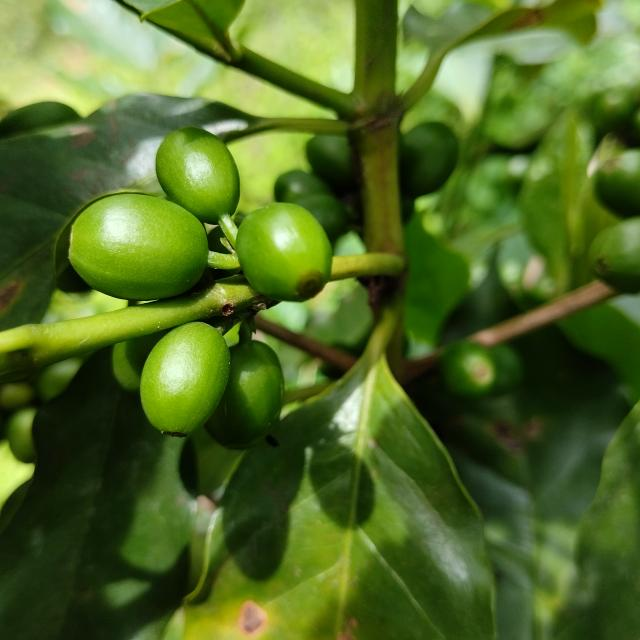green: (68, 193, 208, 300), (205, 318, 284, 450), (140, 322, 230, 437), (235, 202, 332, 302), (155, 126, 240, 224), (400, 121, 459, 197), (590, 216, 640, 293), (112, 330, 169, 393), (440, 341, 497, 398), (595, 148, 640, 217), (306, 134, 354, 188), (294, 193, 347, 241), (274, 170, 332, 202)
